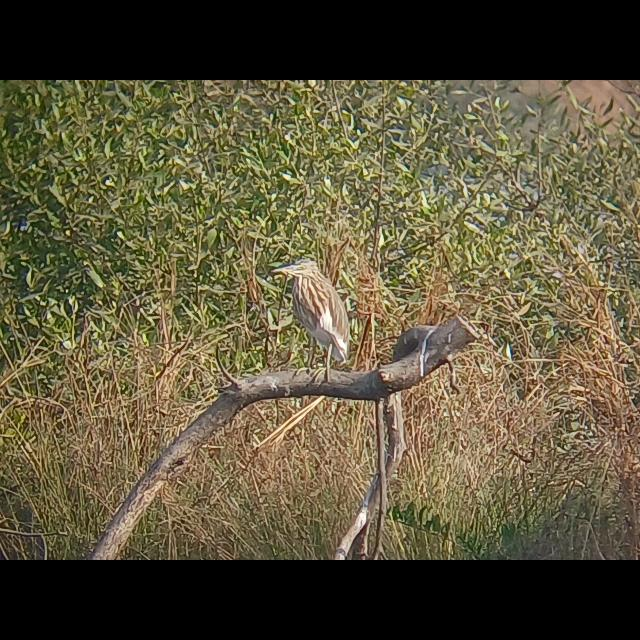heron: (259, 250, 353, 376)
